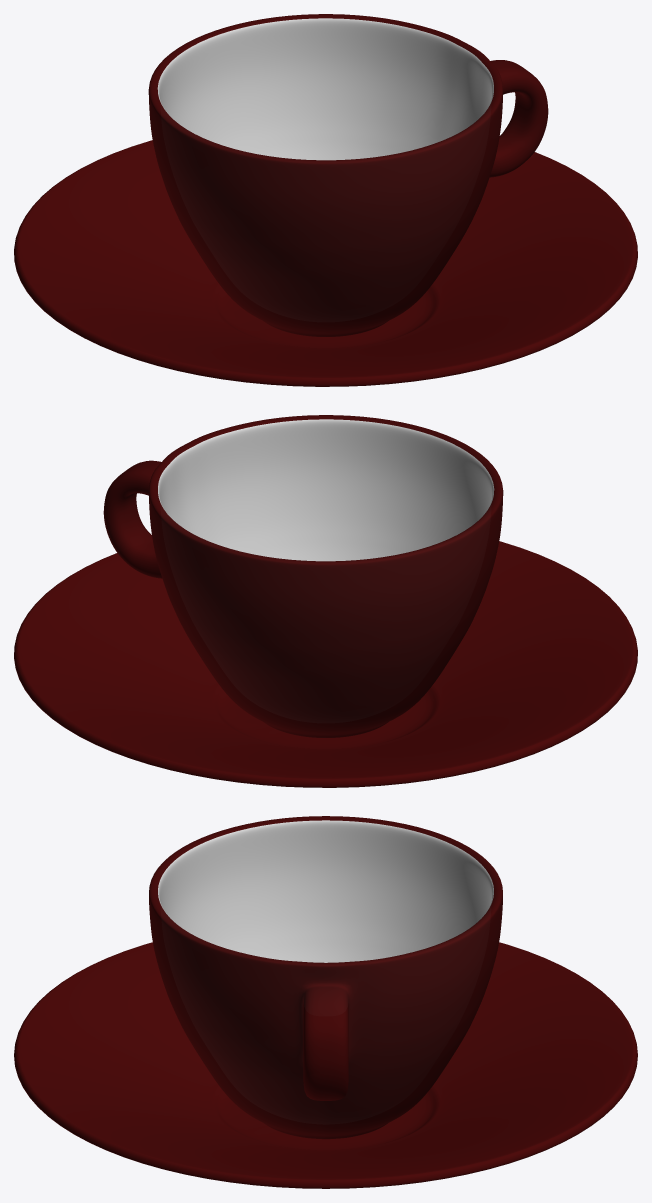
File: cup.fbx.fbx
3 views of the same model, one above another, from view 1: azimuth 30°, elevation 25°; view 2: azimuth 150°, elevation 25°; view 3: azimuth 270°, elevation 25° (orthographic).
Parts seen in each view (by area): view 1: polySurface1, polySurface2; view 2: polySurface1, polySurface2; view 3: polySurface1, polySurface2.
Boxes of the visible parts, bbox=[...] form: polySurface1: bbox=[148, 14, 548, 336]; polySurface2: bbox=[14, 140, 637, 386]; polySurface1: bbox=[103, 415, 503, 737]; polySurface2: bbox=[14, 541, 637, 787]; polySurface1: bbox=[149, 816, 502, 1139]; polySurface2: bbox=[14, 942, 637, 1188].
Size of the model in its own units: 5.53 by 2.45 by 5.53.
